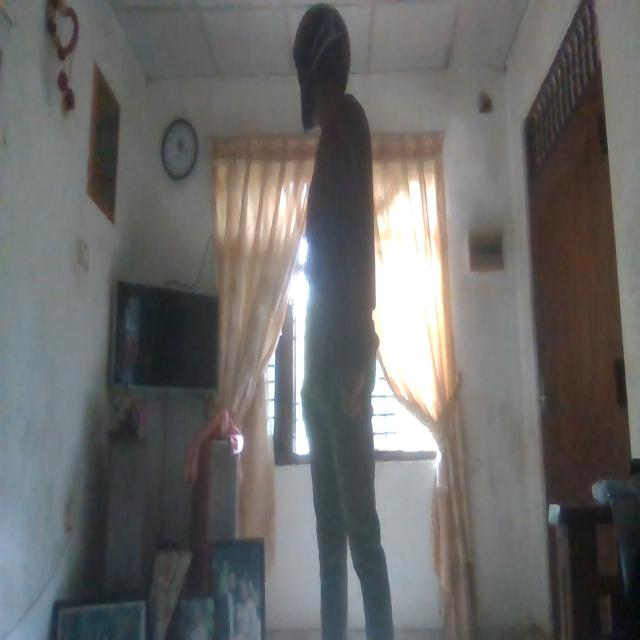Helmet_Wearer: (289, 1, 359, 137)
Person: (285, 0, 401, 638)
